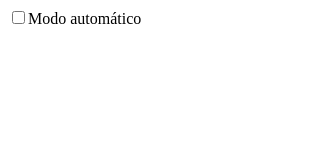
Scenario: Switch › é um checkbox com role="switch"
Click the switch labelled "Modo automático" at coordinates (18, 18), box [12,11,25,24]
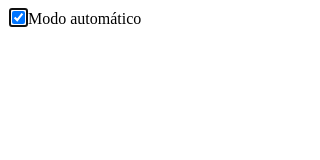
Result: the switch labelled "Modo automático" is checked at [12,11,25,24]
Type keys " "
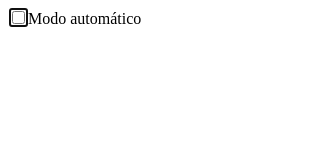
Result: the switch labelled "Modo automático" is not checked at [12,11,25,24]
